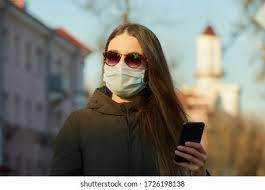mask: (99, 62, 149, 101)
sunglasses: (101, 46, 147, 68)
